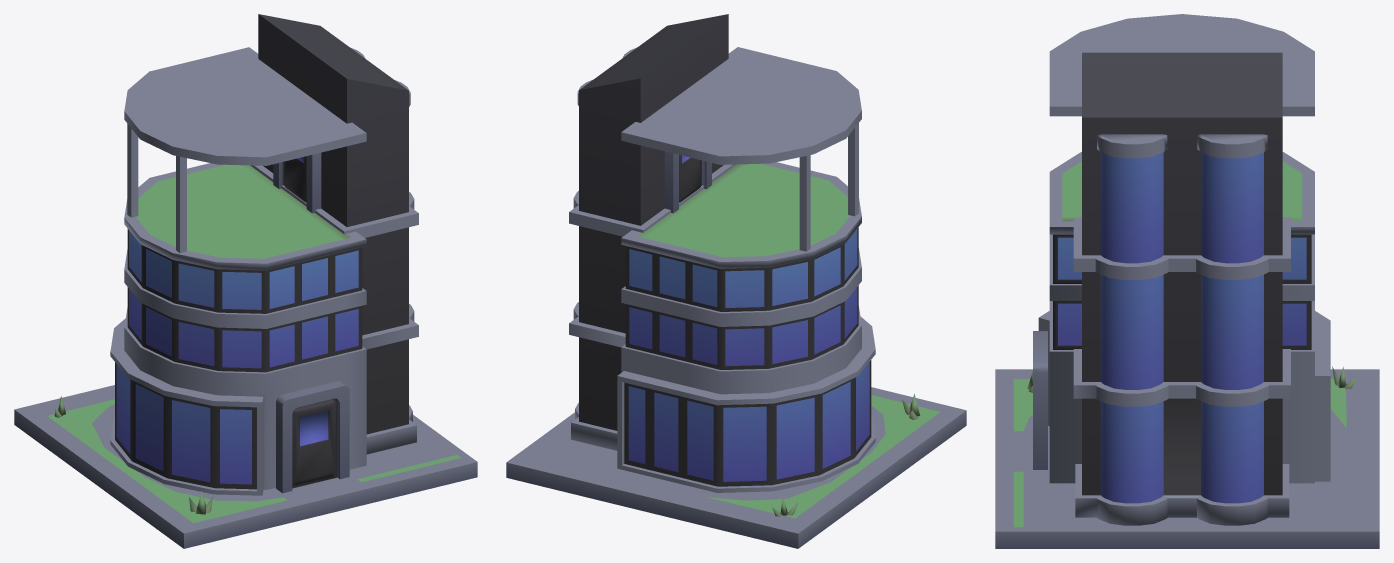
Rendered from store.glb.
The picture shows the model from 3 angles, left to right: view 1: azimuth 30°, elevation 25°; view 2: azimuth 150°, elevation 25°; view 3: azimuth 270°, elevation 25°; orthographic projection. The views are drawn at different scales.
Parts seen in each view (by area): view 1: building-store; view 2: building-store; view 3: building-store.
Boxes of the visible parts, <box> form: building-store: <box>14,14,477,548</box>; building-store: <box>506,14,966,548</box>; building-store: <box>995,14,1379,548</box>.
Bounding box in the file's own units: 1 × 1.28 × 1.
1 material, 1 textured.
